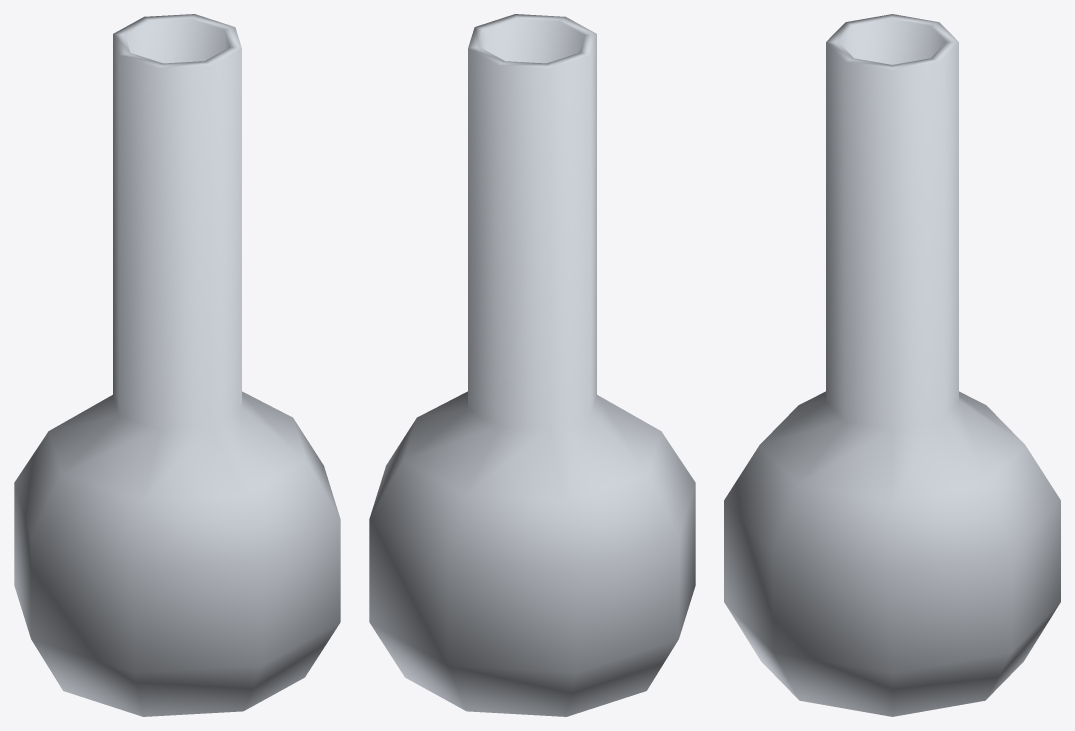
The model's file is bottle_glassware_florence_flask_medium.glb.
3 renders of one model, left to right at view 1: azimuth 30°, elevation 25°; view 2: azimuth 150°, elevation 25°; view 3: azimuth 270°, elevation 25°, orthographic.
Visible parts, largest first — view 1: bottle_glassware_florence_flask_medium; view 2: bottle_glassware_florence_flask_medium; view 3: bottle_glassware_florence_flask_medium.
Part boxes in pixels (left/top/right/bottom): bottle_glassware_florence_flask_medium: left=14, top=14, right=340, bottom=716; bottle_glassware_florence_flask_medium: left=369, top=14, right=695, bottom=716; bottle_glassware_florence_flask_medium: left=724, top=14, right=1060, bottom=716.
Bounding box in the file's own units: 10.8 × 21.91 × 10.8.
1 material, 1 textured.
